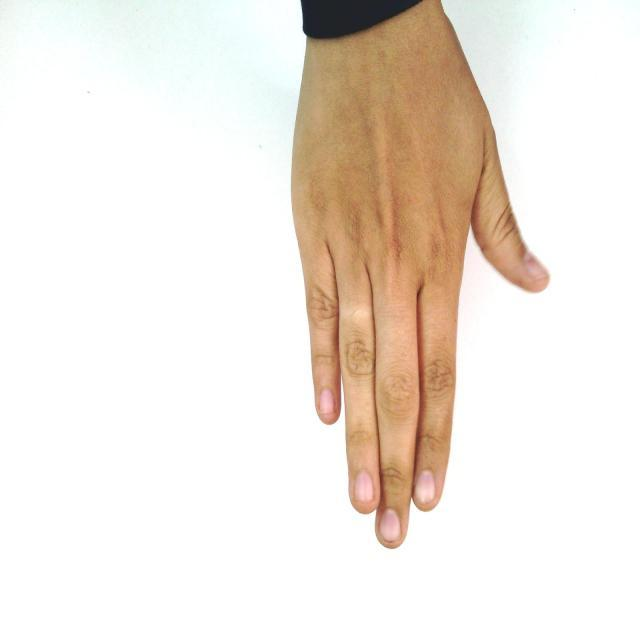Fingernail: (525, 252, 549, 279), (380, 509, 400, 541), (416, 471, 435, 503), (354, 471, 372, 503), (319, 389, 333, 415)
